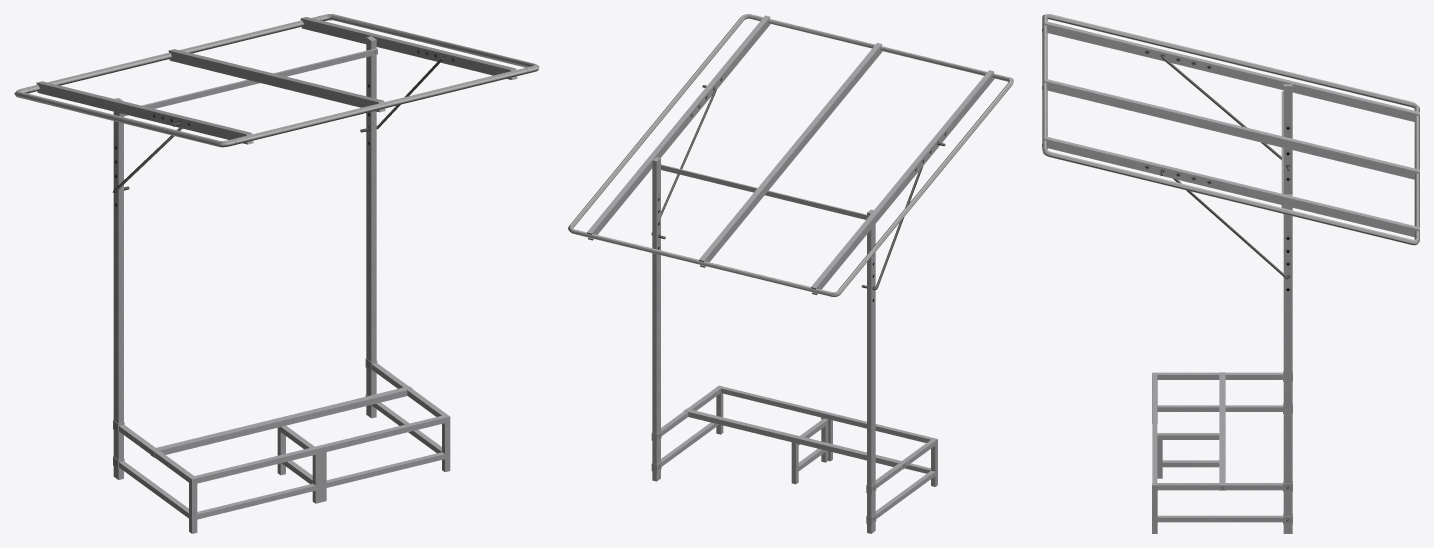
The model's file is jsf_2P_s01_Leg02.fbx.
The picture shows the model from 3 angles, left to right: view 1: azimuth 30°, elevation 25°; view 2: azimuth 150°, elevation 25°; view 3: azimuth 270°, elevation 25°; orthographic projection. The views are drawn at different scales.
Parts seen in each view (by area): view 1: jsf_2P_s01_Leg02; view 2: jsf_2P_s01_Leg02; view 3: jsf_2P_s01_Leg02.
Boxes of the visible parts, x1,y1,x2,y2 form: jsf_2P_s01_Leg02: [14, 14, 539, 533]; jsf_2P_s01_Leg02: [568, 14, 1013, 533]; jsf_2P_s01_Leg02: [1042, 14, 1419, 533].
Size of the model in its own units: 184 by 244 by 210.
